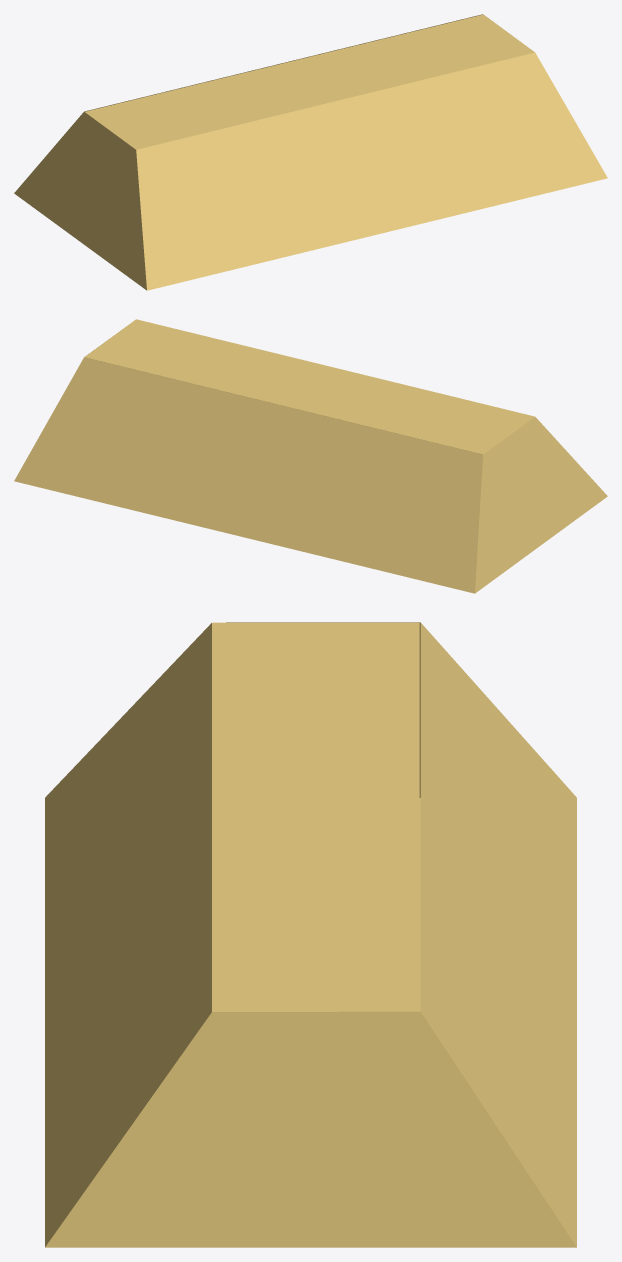
The model's file is gold.fbx.
3 views of the same model, one above another, from view 1: azimuth 30°, elevation 25°; view 2: azimuth 150°, elevation 25°; view 3: azimuth 270°, elevation 25° (orthographic). The views are drawn at different scales.
Parts seen in each view (by area): view 1: Cube; view 2: Cube; view 3: Cube.
Part boxes in pixels (left/top/right/bottom): Cube: left=14, top=14, right=607, bottom=290; Cube: left=14, top=319, right=607, bottom=593; Cube: left=45, top=622, right=576, bottom=1247.
Size of the model in its own units: 120 by 25.6 by 60.
